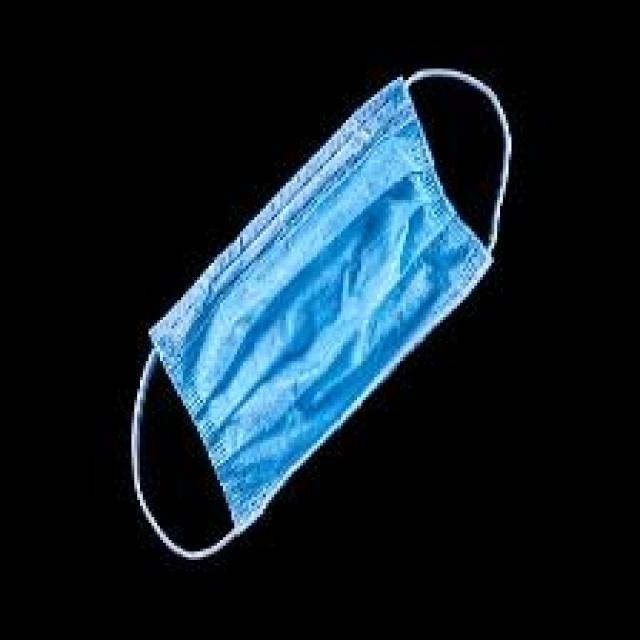Mask: (122, 90, 562, 574)
